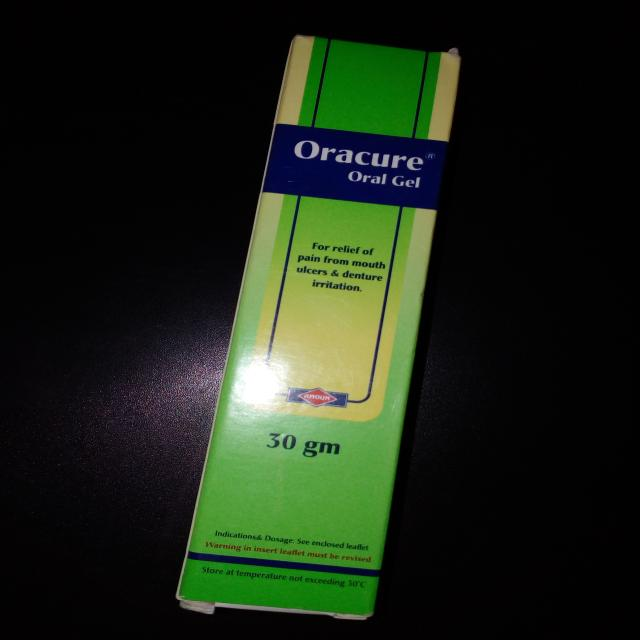Medicine: (170, 33, 463, 622)
